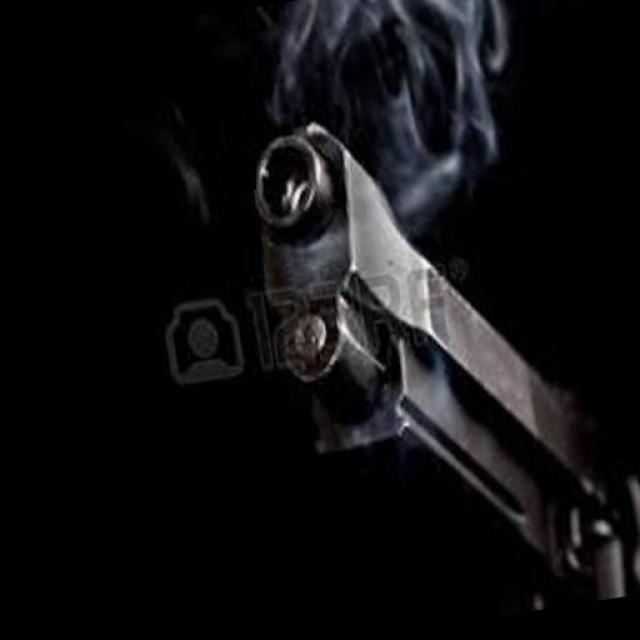gun: (226, 56, 640, 640)
